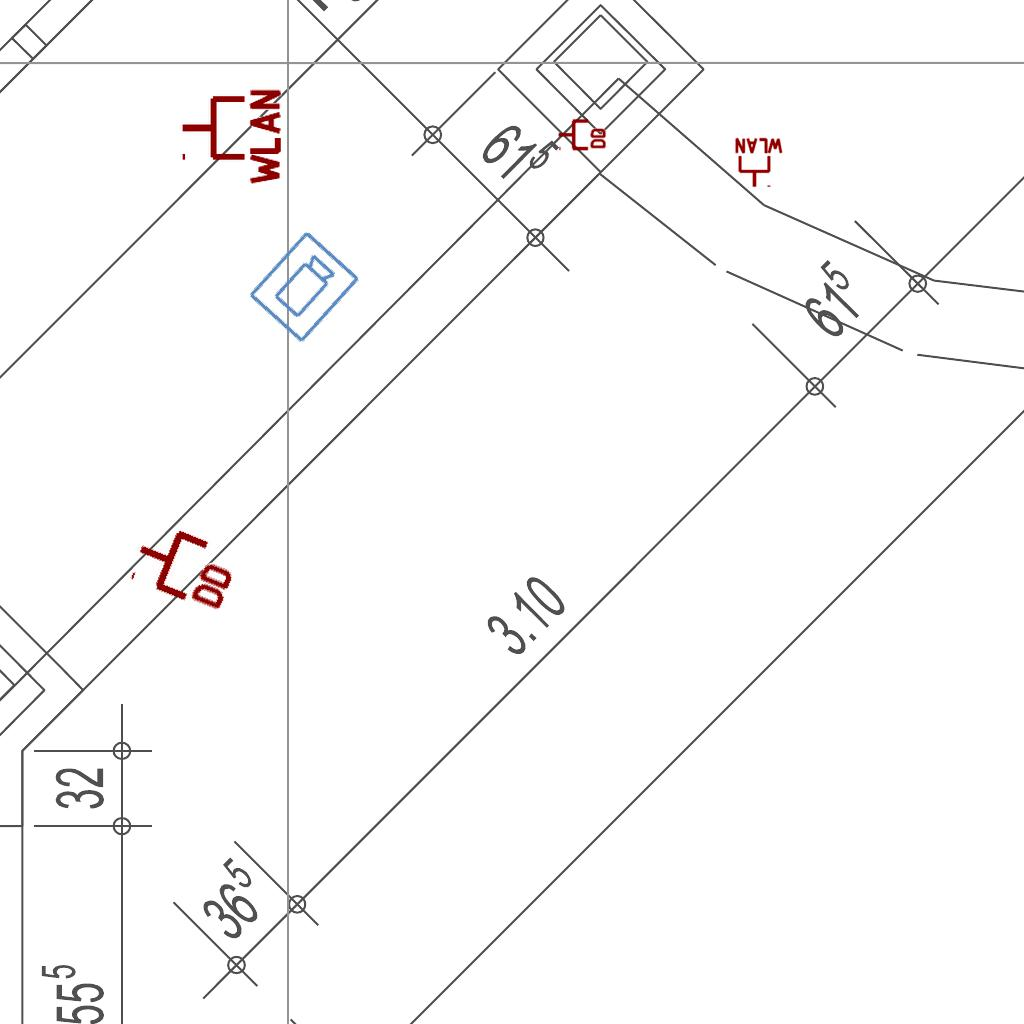Datenanschluss_zweifach: (125, 514, 248, 617), (557, 117, 608, 151)
KFO_Kamera_mit_Festobjektiv: (245, 227, 364, 348)
WLAN: (178, 85, 283, 189), (733, 137, 785, 189)
